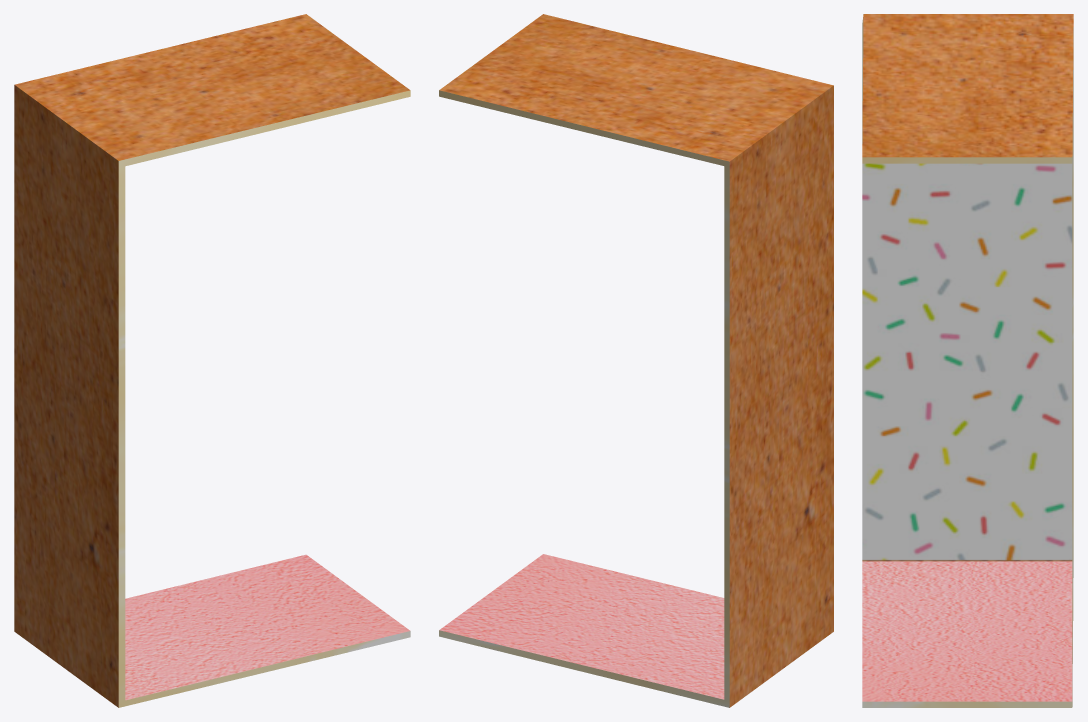
The model's file is House2.fbx.
The picture shows the model from 3 angles, left to right: view 1: azimuth 30°, elevation 25°; view 2: azimuth 150°, elevation 25°; view 3: azimuth 270°, elevation 25°; orthographic projection.
Visible parts, largest first — view 1: pCylinder13; view 2: pCylinder13; view 3: pCylinder13.
Part boxes in pixels (x1=…): pCylinder13: x1=14, y1=14, x2=410, y2=707; pCylinder13: x1=439, y1=14, x2=833, y2=707; pCylinder13: x1=862, y1=14, x2=1073, y2=707.
Bounding box in the file's own units: 4.77 × 8.56 × 2.98.
1 material, 1 textured.
